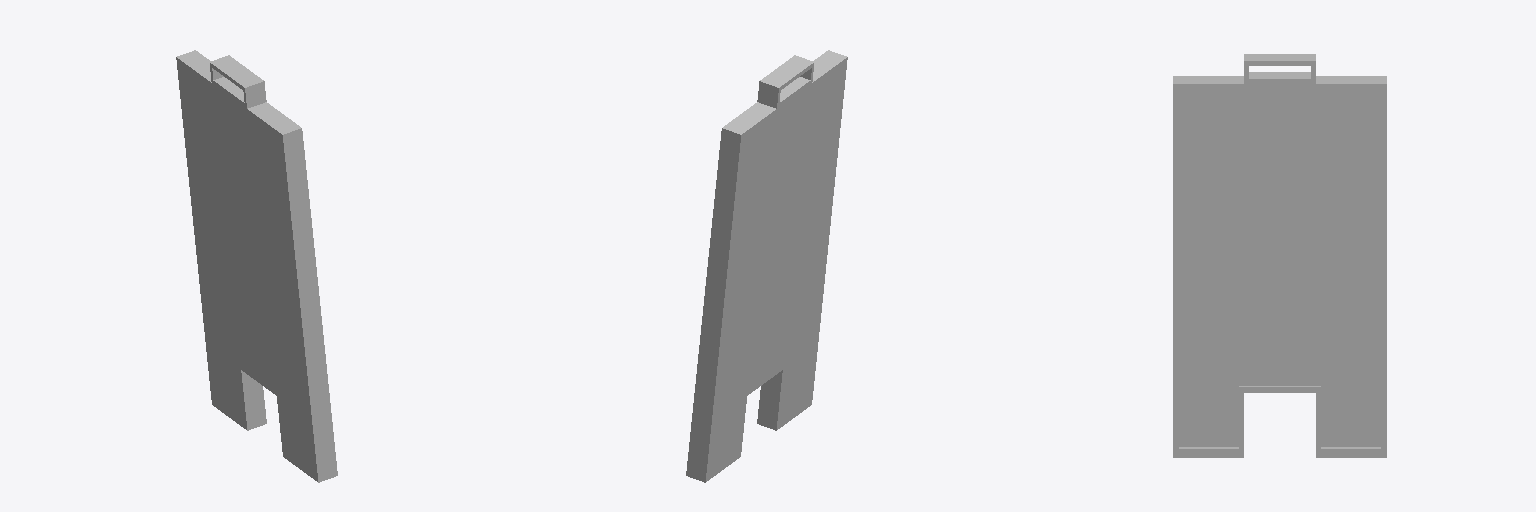
File: wet_floor_sign.obj
3 renders of one model, left to right at view 1: azimuth 30°, elevation 25°; view 2: azimuth 150°, elevation 25°; view 3: azimuth 270°, elevation 25°, orthographic.
Parts seen in each view (by area): view 1: wet_floor_sign group1; view 2: wet_floor_sign group1; view 3: wet_floor_sign group1.
Boxes of the visible parts, x1=… form: wet_floor_sign group1: x1=176, y1=50, x2=337, y2=482; wet_floor_sign group1: x1=686, y1=50, x2=847, y2=482; wet_floor_sign group1: x1=1173, y1=54, x2=1386, y2=457.
Size of the model in its own units: 9.45 by 59.73 by 30.33.